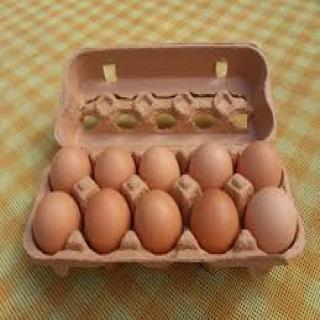Egg: (38, 38, 302, 282)
